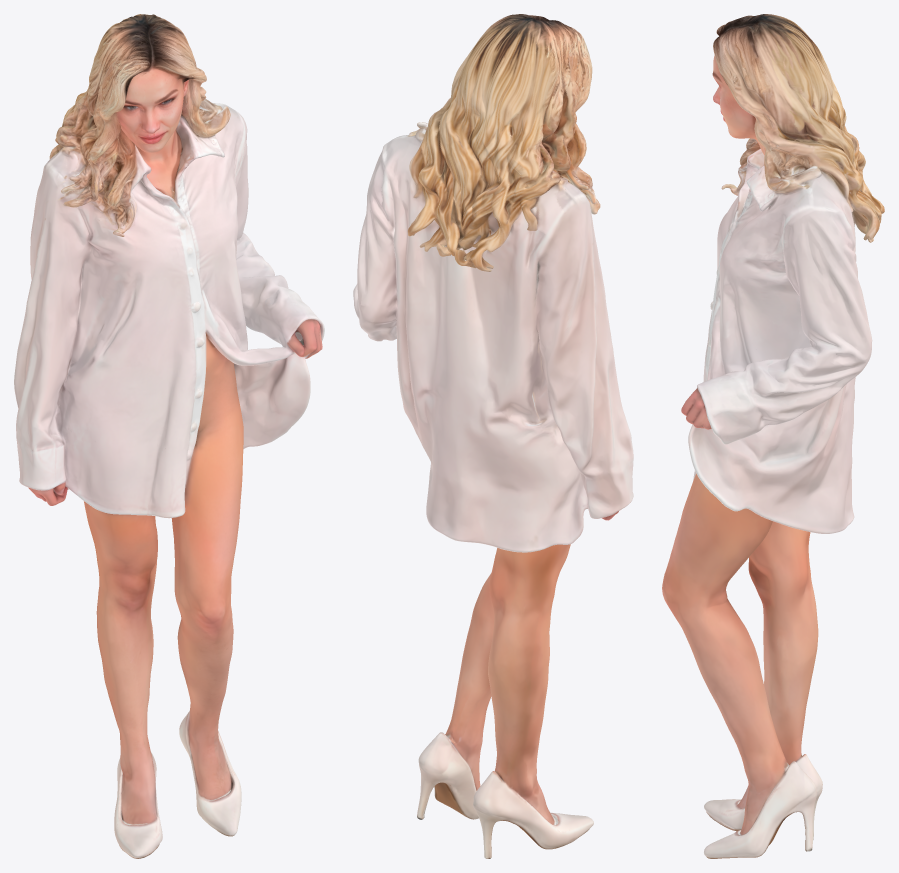
The model's file is city-crime-heroine-4k.glb.
The picture shows the model from 3 angles, left to right: view 1: azimuth 30°, elevation 25°; view 2: azimuth 150°, elevation 25°; view 3: azimuth 270°, elevation 25°; orthographic projection.
Visible parts, largest first — view 1: Mesh_0_modddif_material_0_0; view 2: Mesh_0_modddif_material_0_0; view 3: Mesh_0_modddif_material_0_0.
Boxes of the visible parts, bbox=[...] form: Mesh_0_modddif_material_0_0: bbox=[14, 14, 324, 858]; Mesh_0_modddif_material_0_0: bbox=[353, 14, 633, 858]; Mesh_0_modddif_material_0_0: bbox=[662, 14, 884, 858].
Bounding box in the file's own units: 0.3422 × 1 × 0.2478.
Materials: 1 (1 with a texture image).
